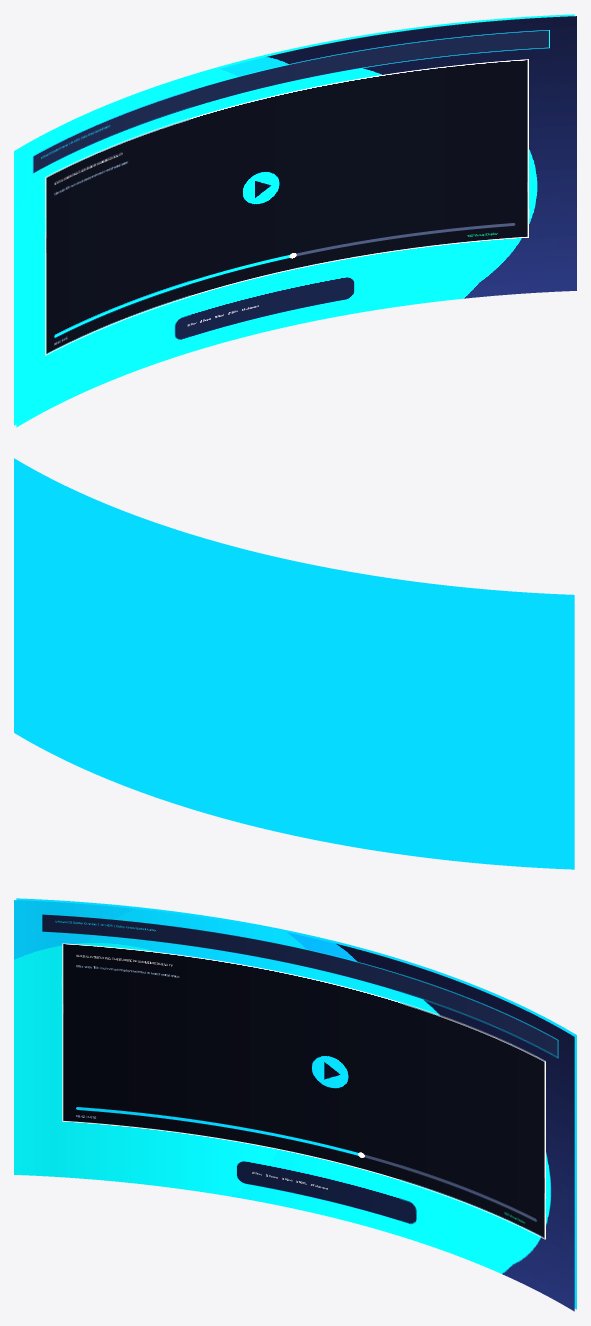
File: vision_screen.glb
3 renders of one model, top to bottom at view 1: azimuth 30°, elevation 25°; view 2: azimuth 150°, elevation 25°; view 3: azimuth 330°, elevation 25°, orthographic.
Parts seen in each view (by area): view 1: VisionProCinemaDisplay; view 2: VisionProCinemaDisplay; view 3: VisionProCinemaDisplay.
Boxes of the visible parts, x1,y1,x2,y2 form: VisionProCinemaDisplay: [14, 14, 576, 427]; VisionProCinemaDisplay: [14, 458, 574, 869]; VisionProCinemaDisplay: [14, 898, 576, 1311].
Bounding box in the file's own units: 2.03 × 0.95 × 0.2399.
Materials: 1 (1 with a texture image).
